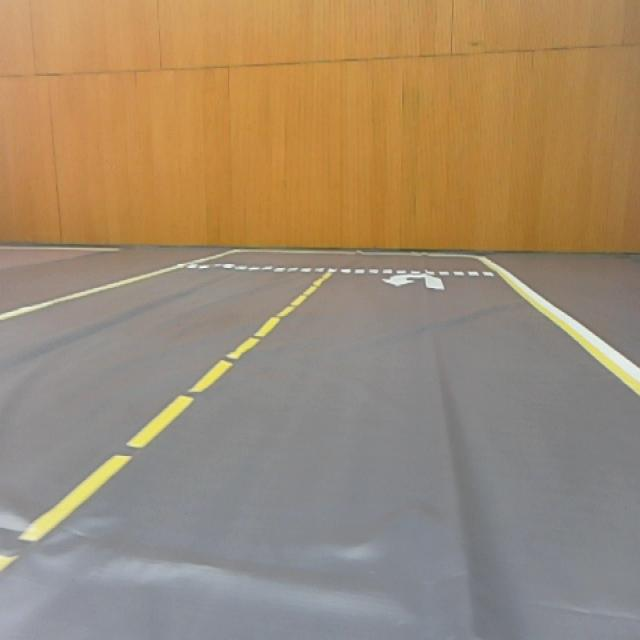left_lane: (1, 268, 333, 577)
right_lane: (486, 254, 640, 399), (1, 248, 230, 325)
